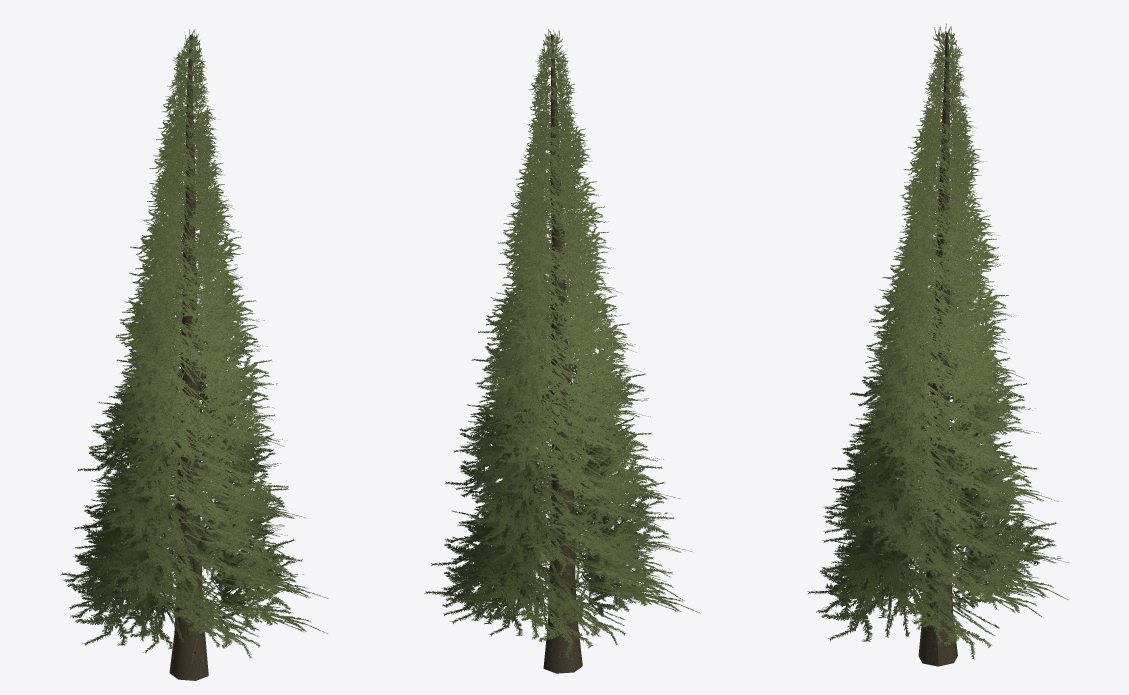
File: SM_Spruce_03_LOD.gltf
The picture shows the model from 3 angles, left to right: view 1: azimuth 30°, elevation 25°; view 2: azimuth 150°, elevation 25°; view 3: azimuth 270°, elevation 25°; orthographic projection.
Parts seen in each view (by area): view 1: SM_Spruce_03_LOD; view 2: SM_Spruce_03_LOD; view 3: SM_Spruce_03_LOD.
Boxes of the visible parts, <box> form: SM_Spruce_03_LOD: <box>60,29,328,680</box>; SM_Spruce_03_LOD: <box>424,29,700,673</box>; SM_Spruce_03_LOD: <box>807,23,1068,666</box>.
Bounding box in the file's own units: 7.79 × 16.52 × 8.22.
Materials: 2 (2 with a texture image).
